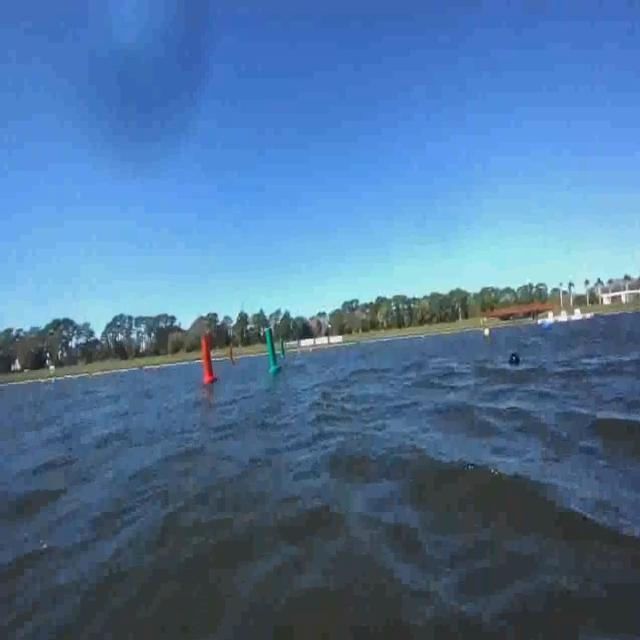black-buoy: (510, 348, 522, 366)
green-column-buoy: (265, 327, 282, 375), (280, 342, 286, 361)
red-column-buoy: (200, 332, 218, 384), (228, 344, 235, 366)
yellow-buoy: (482, 322, 492, 342)
